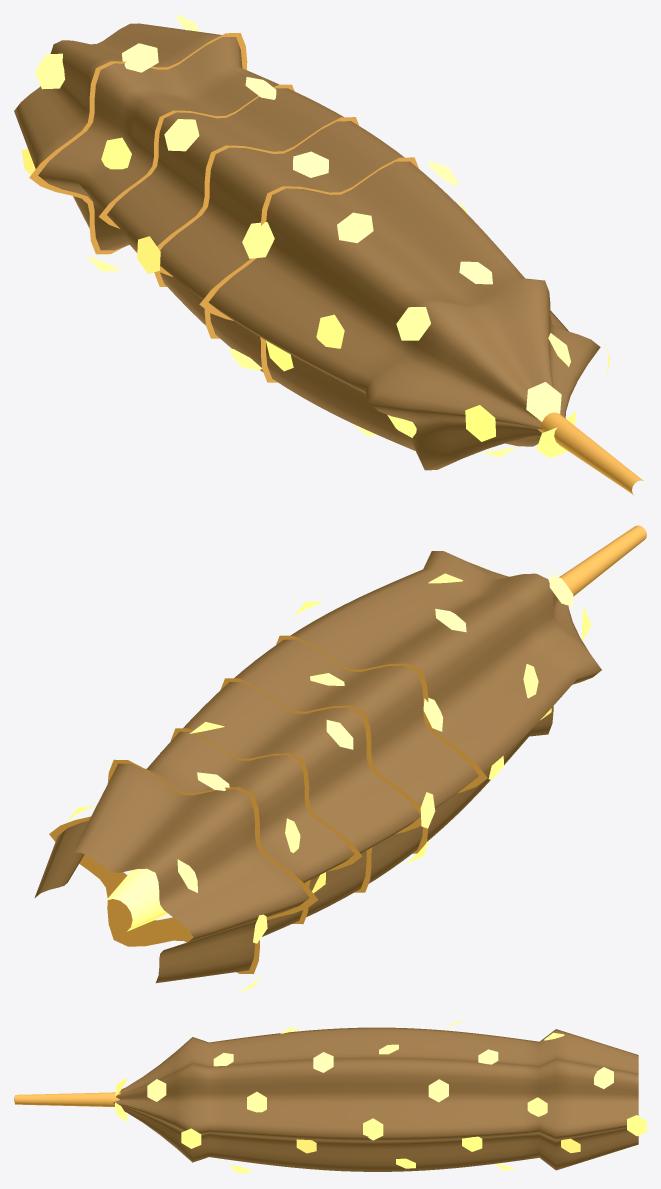
File: mechanoids_fighter.glb
3 renders of one model, top to bottom at view 1: azimuth 30°, elevation 25°; view 2: azimuth 150°, elevation 25°; view 3: azimuth 270°, elevation 25°, orthographic. The views are drawn at different scales.
Parts seen in each view (by area): view 1: mechanoids_fighter; view 2: mechanoids_fighter; view 3: mechanoids_fighter.
Part boxes in pixels (bbox=[...]): mechanoids_fighter: bbox=[14, 14, 643, 494]; mechanoids_fighter: bbox=[34, 525, 646, 993]; mechanoids_fighter: bbox=[14, 1022, 646, 1173].
Bounding box in the file's own units: 1.11 × 0.8368 × 3.72.
